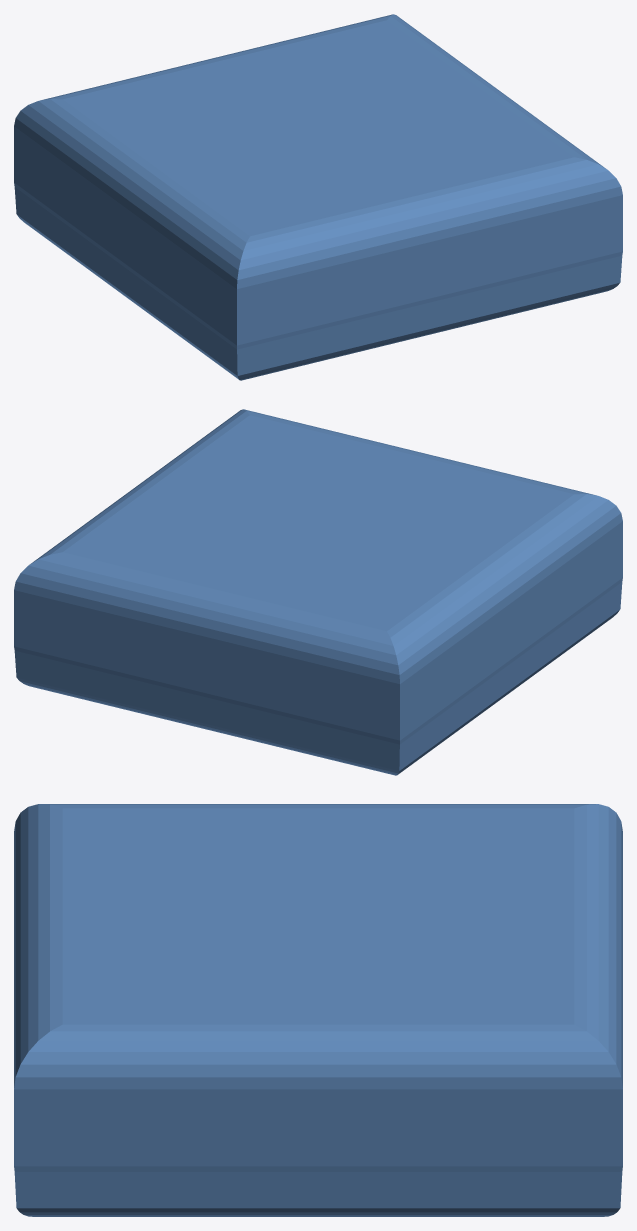
Rendered from AzulPieces.fbx.
3 renders of one model, top to bottom at view 1: azimuth 30°, elevation 25°; view 2: azimuth 150°, elevation 25°; view 3: azimuth 270°, elevation 25°, orthographic. The views are drawn at different scales.
Visible parts, largest first — view 1: Cube.001; view 2: Cube.001; view 3: Cube.001.
Part boxes in pixels (x1,y1,x2,y2): Cube.001: [14, 14, 622, 380]; Cube.001: [14, 409, 622, 775]; Cube.001: [14, 804, 622, 1216].
Bounding box in the file's own units: 200 × 66.18 × 200.
